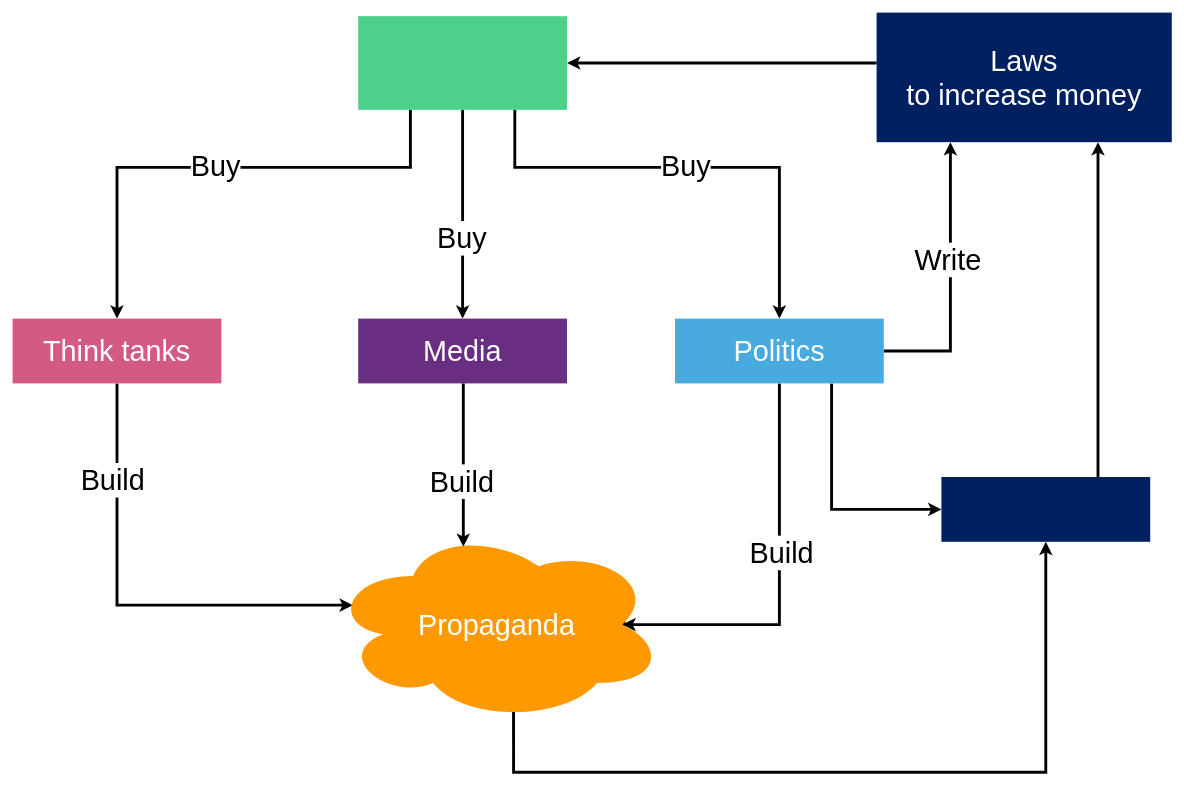
The diagram is 1184 pixels wide and 791 high, and some of its shapes have lost their labels. Each missing label, with the centre of its shape:
Money: [462,62]
Win elections: [1045,509]
